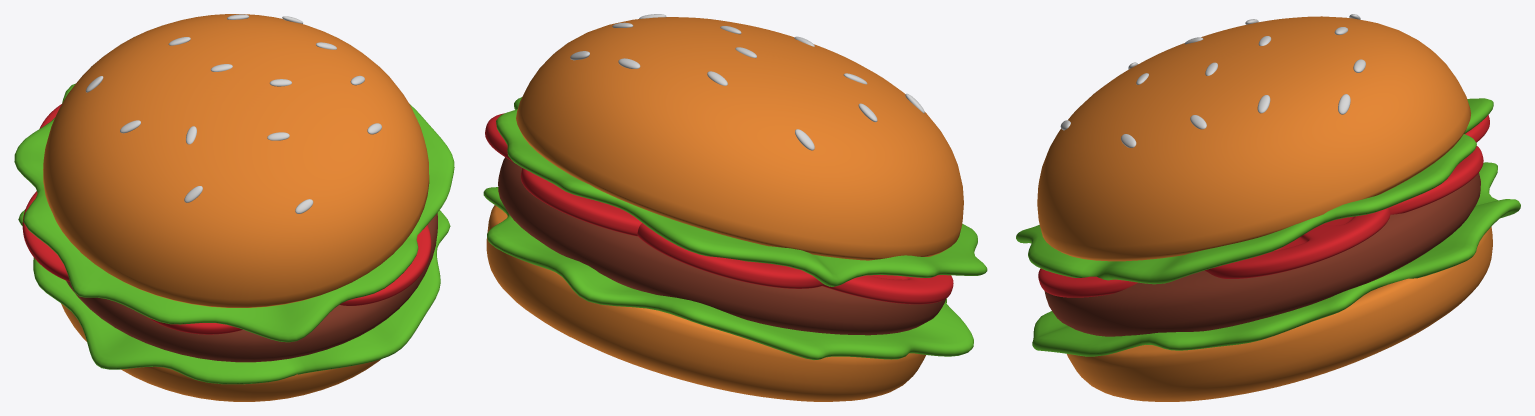
Rendered from Burger.fbx.
3 views of the same model, side by side, from view 1: azimuth 30°, elevation 25°; view 2: azimuth 150°, elevation 25°; view 3: azimuth 270°, elevation 25° (orthographic). The views are drawn at different scales.
Visible parts, largest first — view 1: Burger; view 2: Burger; view 3: Burger.
Part boxes in pixels (x1,y1,x2,y2): Burger: (14, 14, 454, 401); Burger: (483, 14, 987, 401); Burger: (1016, 14, 1520, 401).
Size of the model in its own units: 4.76 by 3.45 by 4.73.
